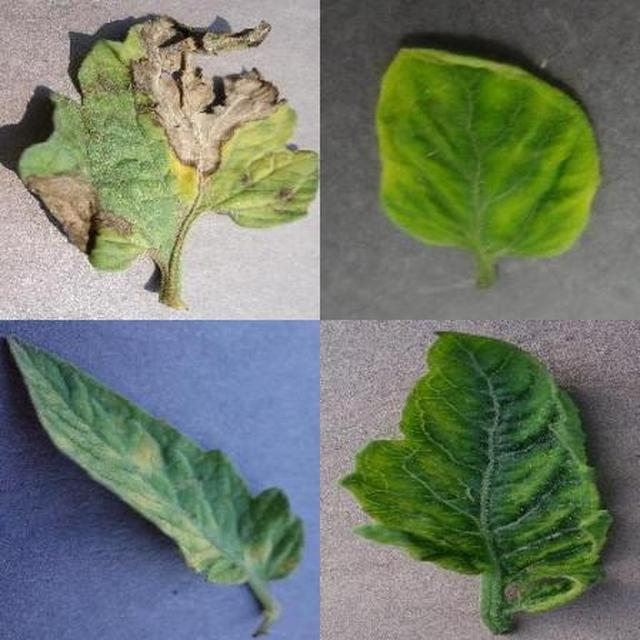Late Blight Leaf: (221, 206, 640, 640)
